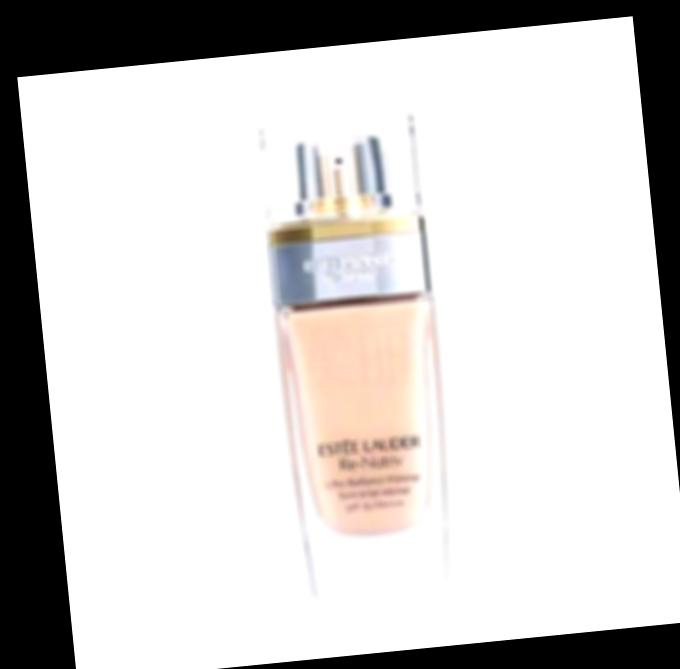cosmetic: (258, 114, 457, 601)
